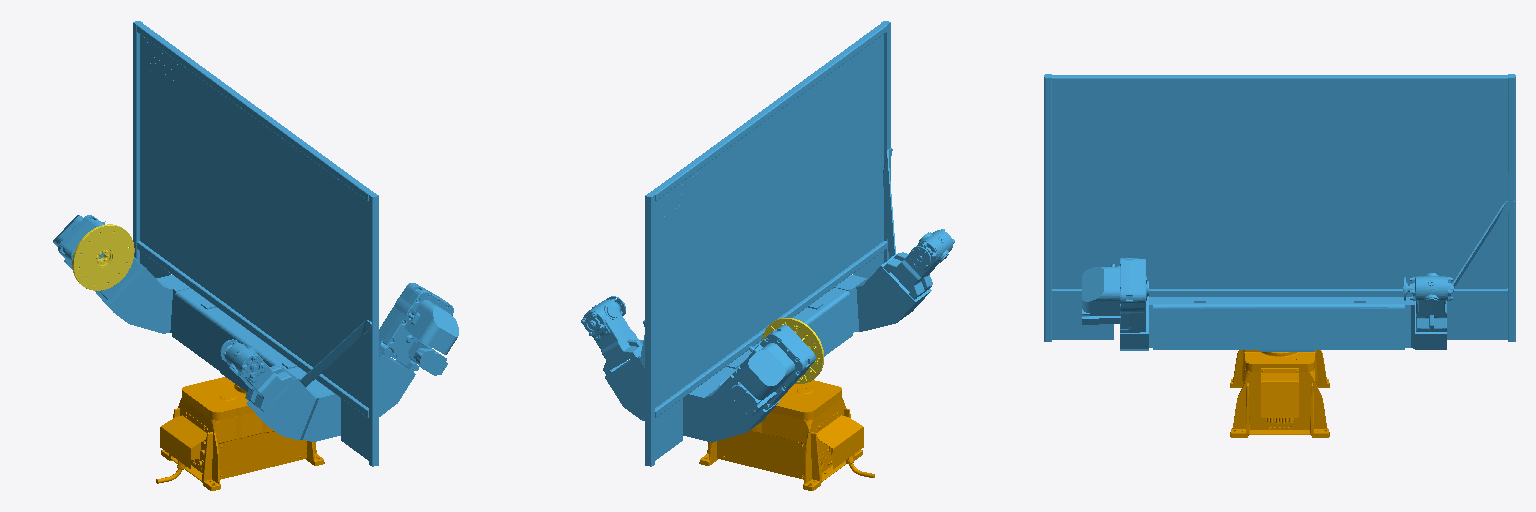
The robot description file, URDF, robot "Irbpr_300_D1000_L1250":
<?xml version="1.0" ?>
<robot name="Irbpr_300_D1000_L1250">

<link name="base_link">
  <inertial>
    <origin xyz="0.44755031328117695 -0.8004266794208067 0.19724244969369464" rpy="0 0 0"/>
    <mass value="614.1963755403816"/>
    <inertia ixx="13.487515" iyy="26.109458" izz="25.519494" ixy="-0.081195" iyz="-0.009249" ixz="-0.68249"/>
  </inertial>
  <visual>
    <origin xyz="0 0 0" rpy="0 0 0"/>
    <geometry>
      <mesh filename="meshes/base_link.stl" scale="0.001 0.001 0.001"/>
    </geometry>
  </visual>
  <collision>
    <origin xyz="0 0 0" rpy="0 0 0"/>
    <geometry>
      <mesh filename="meshes/base_link.stl" scale="0.001 0.001 0.001"/>
    </geometry>
  </collision>
</link>

<link name="Component6_1">
  <inertial>
    <origin xyz="2.4834149167096697e-06 5.918574008256794e-05 0.30036178475915015" rpy="0 0 0"/>
    <mass value="1578.4273970718727"/>
    <inertia ixx="824.85781" iyy="236.43851" izz="836.731357" ixy="78.859685" iyz="0.045522" ixz="-0.003087"/>
  </inertial>
  <visual>
    <origin xyz="-0.509 0.8 -0.414" rpy="0 0 0"/>
    <geometry>
      <mesh filename="meshes/Component6_1.stl" scale="0.001 0.001 0.001"/>
    </geometry>
  </visual>
  <collision>
    <origin xyz="-0.509 0.8 -0.414" rpy="0 0 0"/>
    <geometry>
      <mesh filename="meshes/Component6_1.stl" scale="0.001 0.001 0.001"/>
    </geometry>
  </collision>
</link>

<link name="Component4_1">
  <inertial>
    <origin xyz="0.0002494703774751361 0.02796459389638084 0.00031930799338630855" rpy="0 0 0"/>
    <mass value="9.83588782822989"/>
    <inertia ixx="0.066958" iyy="0.131981" izz="0.066883" ixy="5.7e-05" iyz="7.3e-05" ixz="-0.000151"/>
  </inertial>
  <visual>
    <origin xyz="-1.018 1.46337 -0.95" rpy="0 0 0"/>
    <geometry>
      <mesh filename="meshes/Component4_1.stl" scale="0.001 0.001 0.001"/>
    </geometry>
  </visual>
  <collision>
    <origin xyz="-1.018 1.46337 -0.95" rpy="0 0 0"/>
    <geometry>
      <mesh filename="meshes/Component4_1.stl" scale="0.001 0.001 0.001"/>
    </geometry>
  </collision>
</link>

<link name="Component2_1">
  <inertial>
    <origin xyz="-0.00024946298242902094 -0.027964596818715826 0.0003193030053194601" rpy="0 0 0"/>
    <mass value="9.835888845656054"/>
    <inertia ixx="0.066958" iyy="0.131981" izz="0.066883" ixy="5.7e-05" iyz="-7.3e-05" ixz="0.000151"/>
  </inertial>
  <visual>
    <origin xyz="0.0 0.13663 -0.95" rpy="0 0 0"/>
    <geometry>
      <mesh filename="meshes/Component2_1.stl" scale="0.001 0.001 0.001"/>
    </geometry>
  </visual>
  <collision>
    <origin xyz="0.0 0.13663 -0.95" rpy="0 0 0"/>
    <geometry>
      <mesh filename="meshes/Component2_1.stl" scale="0.001 0.001 0.001"/>
    </geometry>
  </collision>
</link>

<joint name="j1" type="continuous">
  <origin xyz="0.509 -0.8 0.414" rpy="0 0 0"/>
  <parent link="base_link"/>
  <child link="Component6_1"/>
  <axis xyz="0.0 -0.0 1.0"/>
</joint>

<joint name="j2" type="continuous">
  <origin xyz="0.509 -0.66337 0.536" rpy="0 0 0"/>
  <parent link="Component6_1"/>
  <child link="Component4_1"/>
  <axis xyz="0.0 1.0 0.0"/>
</joint>

<joint name="j3" type="continuous">
  <origin xyz="-0.509 0.66337 0.536" rpy="0 0 0"/>
  <parent link="Component6_1"/>
  <child link="Component2_1"/>
  <axis xyz="0.0 -1.0 0.0"/>
</joint>

</robot>

--- Render facts (derived) ---
3 views of the same robot in one strip: view 1: azimuth 30°, elevation 25°; view 2: azimuth 150°, elevation 25°; view 3: azimuth 270°, elevation 25° (orthographic).
Robot: Irbpr_300_D1000_L1250 — 4 links, 3 joints (3 continuous); root link base_link; default pose: all joints at 0.
Visible links, largest first — view 1: Component6_1, base_link, Component2_1; view 2: Component6_1, base_link, Component2_1; view 3: Component6_1, base_link.
Link boxes in pixels (box(x1,y1,x2,y2)): Component6_1: box(53, 21, 458, 466); base_link: box(156, 377, 324, 490); Component2_1: box(72, 224, 134, 290); Component6_1: box(581, 21, 954, 466); base_link: box(699, 380, 874, 490); Component2_1: box(762, 318, 823, 383); Component6_1: box(1044, 74, 1515, 351); base_link: box(1230, 350, 1329, 437).
Size in the robot's own frame: 1.35 by 2.38 by 1.9 metres.
Meshes: 4 distinct files referenced, 3 mesh visuals loaded (3 binary STL); not drawn: 1 (reference not matched to a file when rendering).